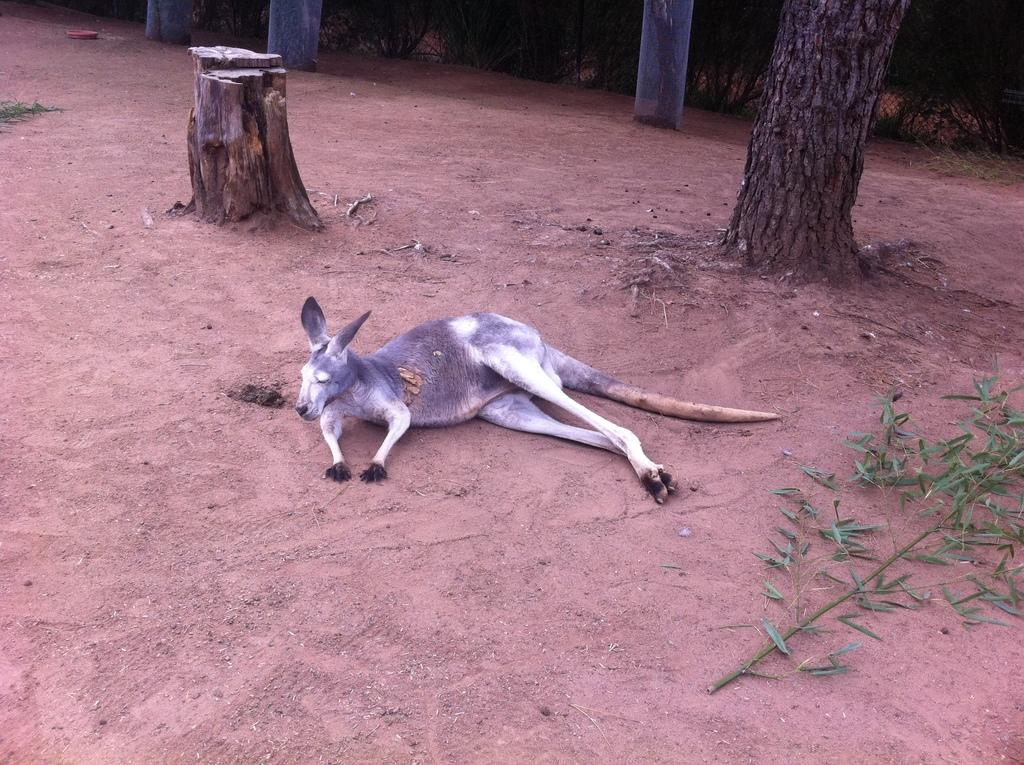kangaroo: (291, 298, 782, 506)
